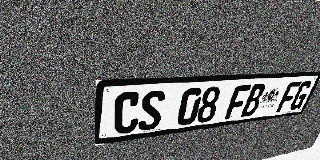0: (176, 87, 204, 126)
8: (195, 86, 223, 124)
B: (240, 83, 267, 117)
C: (113, 91, 142, 135)
F: (224, 84, 252, 120), (276, 81, 302, 112)
G: (288, 80, 314, 111)
S: (138, 90, 166, 132)
